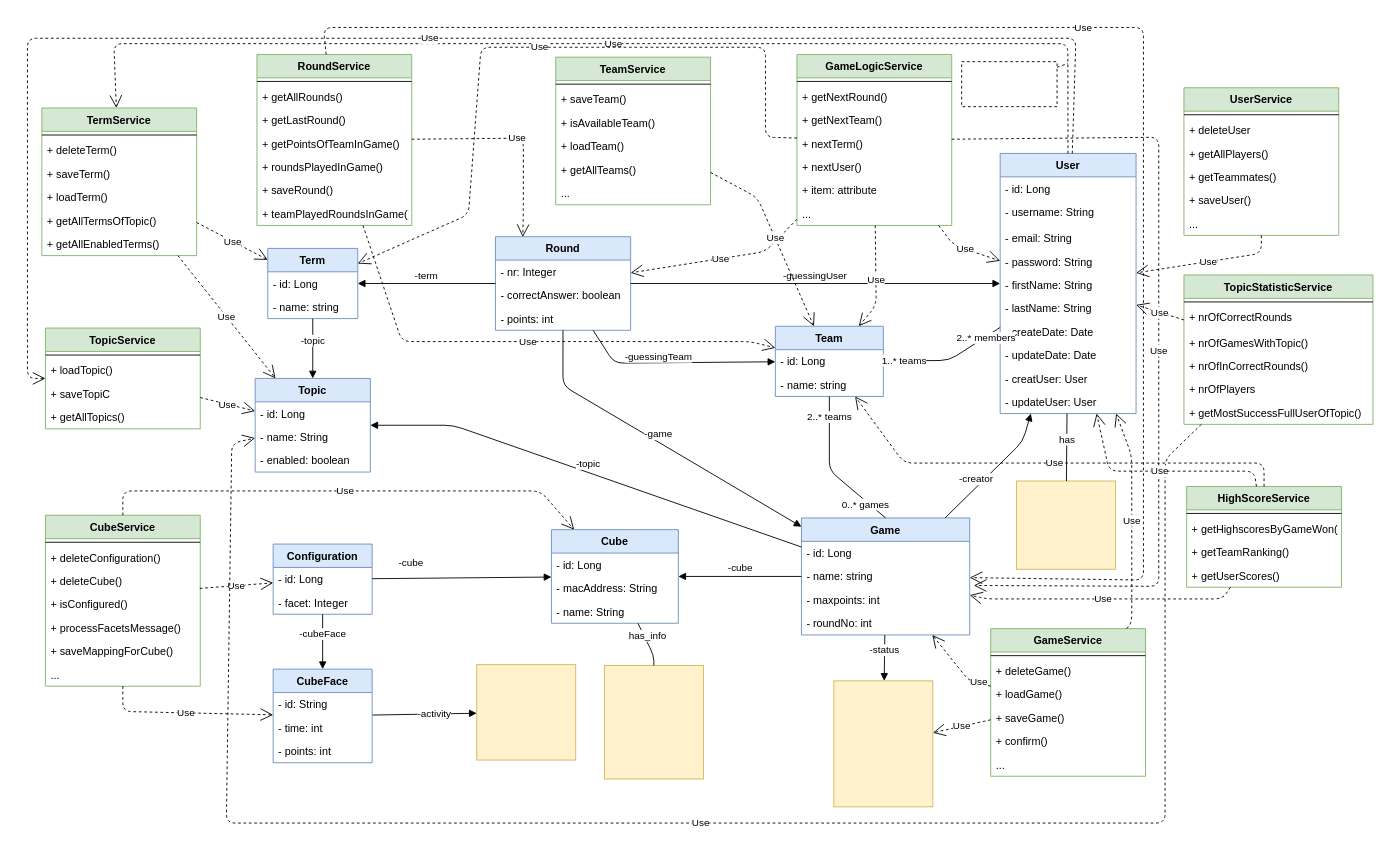
This 1389x851 diagram has some shape labels left out. Each missing label, with the centre of its shape:
"<<enumeration>> Activity DRAW MIME TALK RHYME" goes at point 526,712.
"<<enumeration>> CubeStatus LIVE READY IN_CONFIG IN_GAME OFFLINE" goes at point 654,722.
"<<enumeration>> GameState SETUP VALID_SETUP PLAYED HALTED FINISHED CANCELED" goes at point 883,743.
"<<enumeration>> UserRole ADMIN MANAGER PLAYER" goes at point 1066,524.
"according to their role" goes at point 1009,84.
